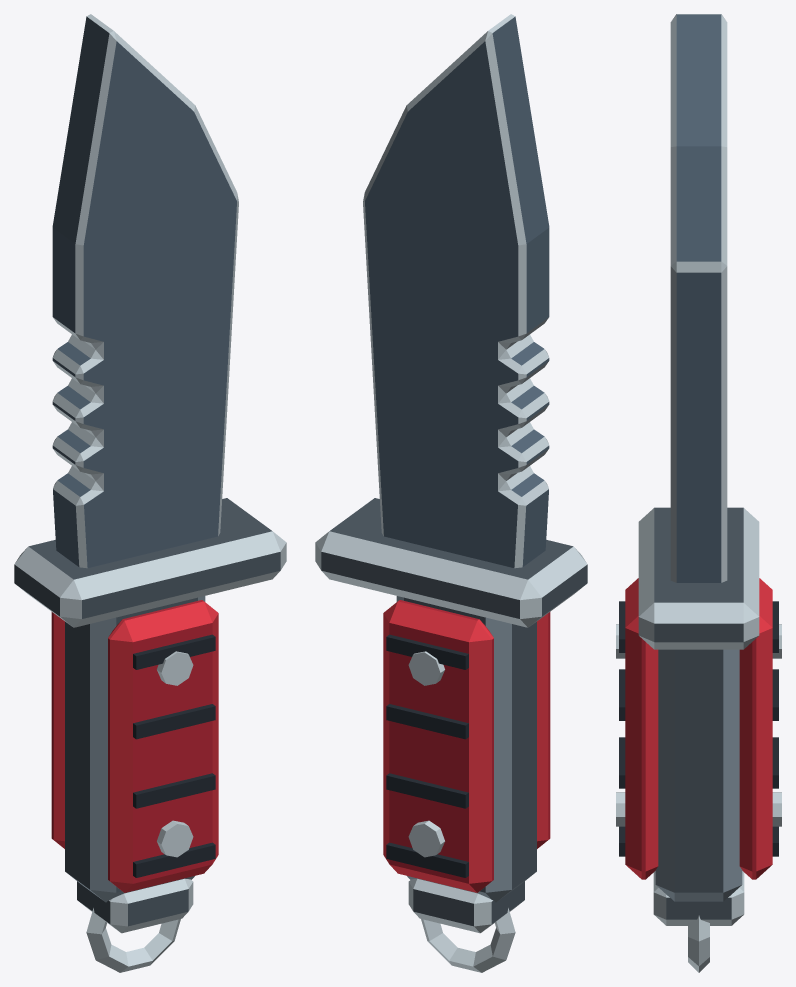
The model's file is combat_knife.fbx.
The picture shows the model from 3 angles, left to right: view 1: azimuth 30°, elevation 25°; view 2: azimuth 150°, elevation 25°; view 3: azimuth 270°, elevation 25°; orthographic projection. The views are drawn at different scales.
Visible parts, largest first — view 1: combat_knife; view 2: combat_knife; view 3: combat_knife.
Part boxes in pixels (x1,y1,x2,y2): combat_knife: (14, 14, 286, 972); combat_knife: (315, 14, 587, 972); combat_knife: (616, 14, 781, 972).
Size of the model in its own units: 0.323 by 1.3 by 0.2087.
